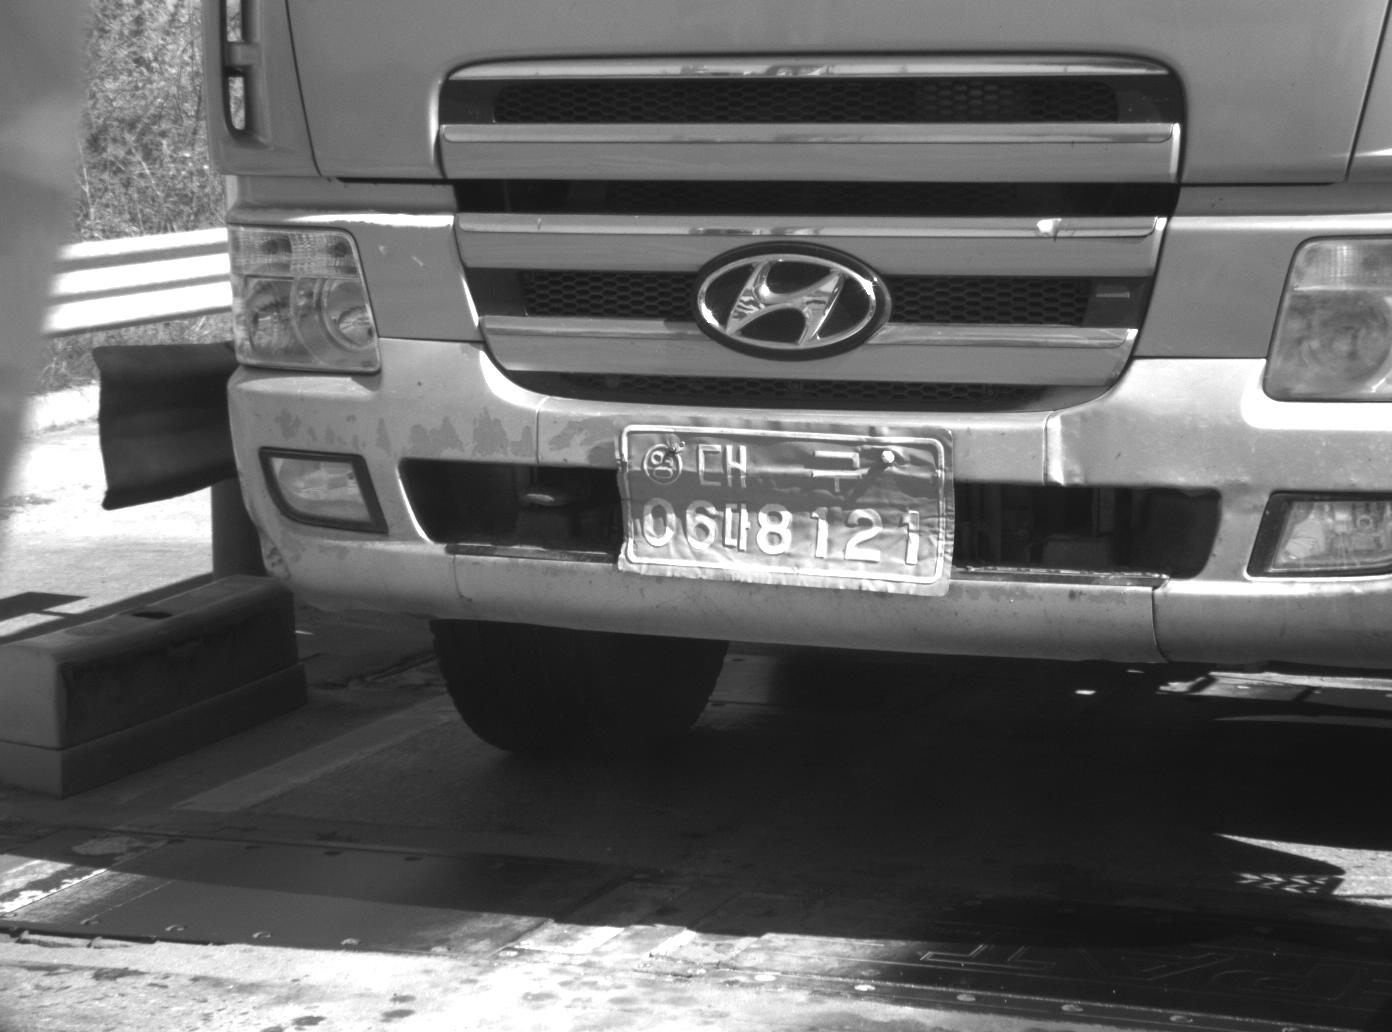car: (187, 1, 1390, 765)
plate: (616, 422, 950, 588)
